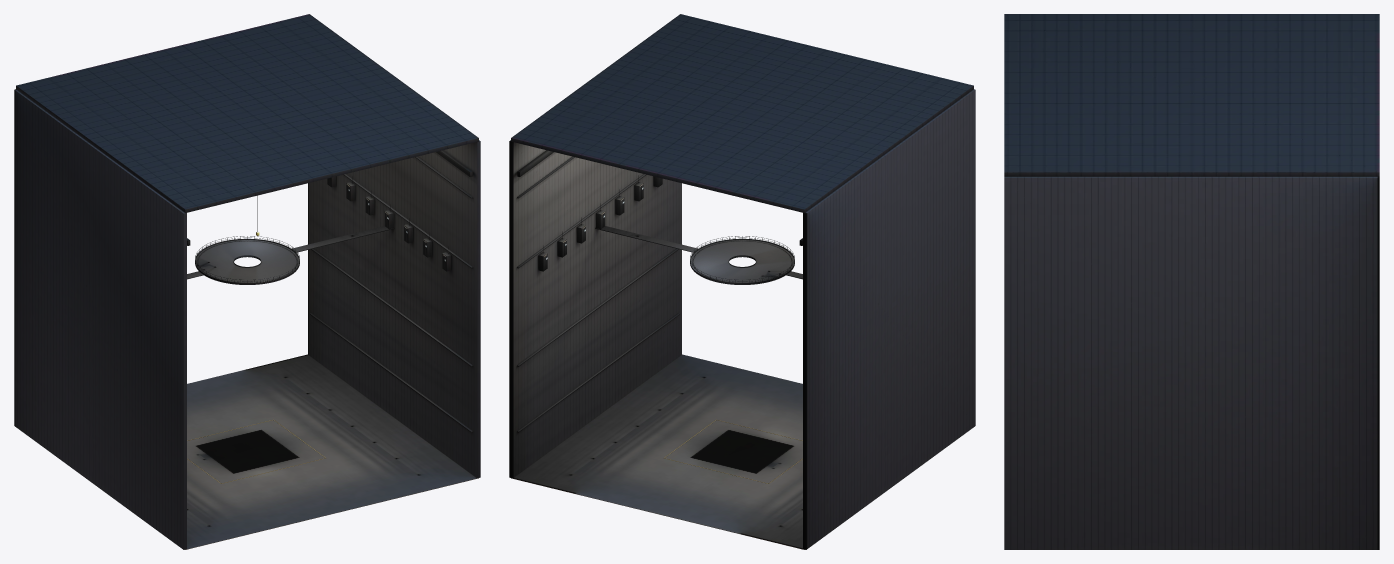
File: hall.glb
The picture shows the model from 3 angles, left to right: view 1: azimuth 30°, elevation 25°; view 2: azimuth 150°, elevation 25°; view 3: azimuth 270°, elevation 25°; orthographic projection. The views are drawn at different scales.
Visible parts, largest first — view 1: wallL, ceiling, wallR, floor, deck; view 2: wallL, ceiling, wallR, floor, deck; view 3: wallR, ceiling.
Boxes of the visible parts, box(x1,y1,x2,y2) form: wallL: box(14, 89, 186, 549); ceiling: box(16, 14, 478, 245); wallR: box(308, 140, 480, 478); floor: box(185, 354, 478, 549); deck: box(187, 226, 394, 284); wallL: box(803, 89, 975, 549); ceiling: box(511, 14, 973, 245); wallR: box(509, 140, 681, 478); floor: box(511, 354, 804, 549); deck: box(595, 226, 802, 284); wallR: box(1004, 176, 1379, 549); ceiling: box(1004, 14, 1379, 176).
Bounding box in the file's own units: 85 × 93.1 × 84.
5 materials, 5 textured.
